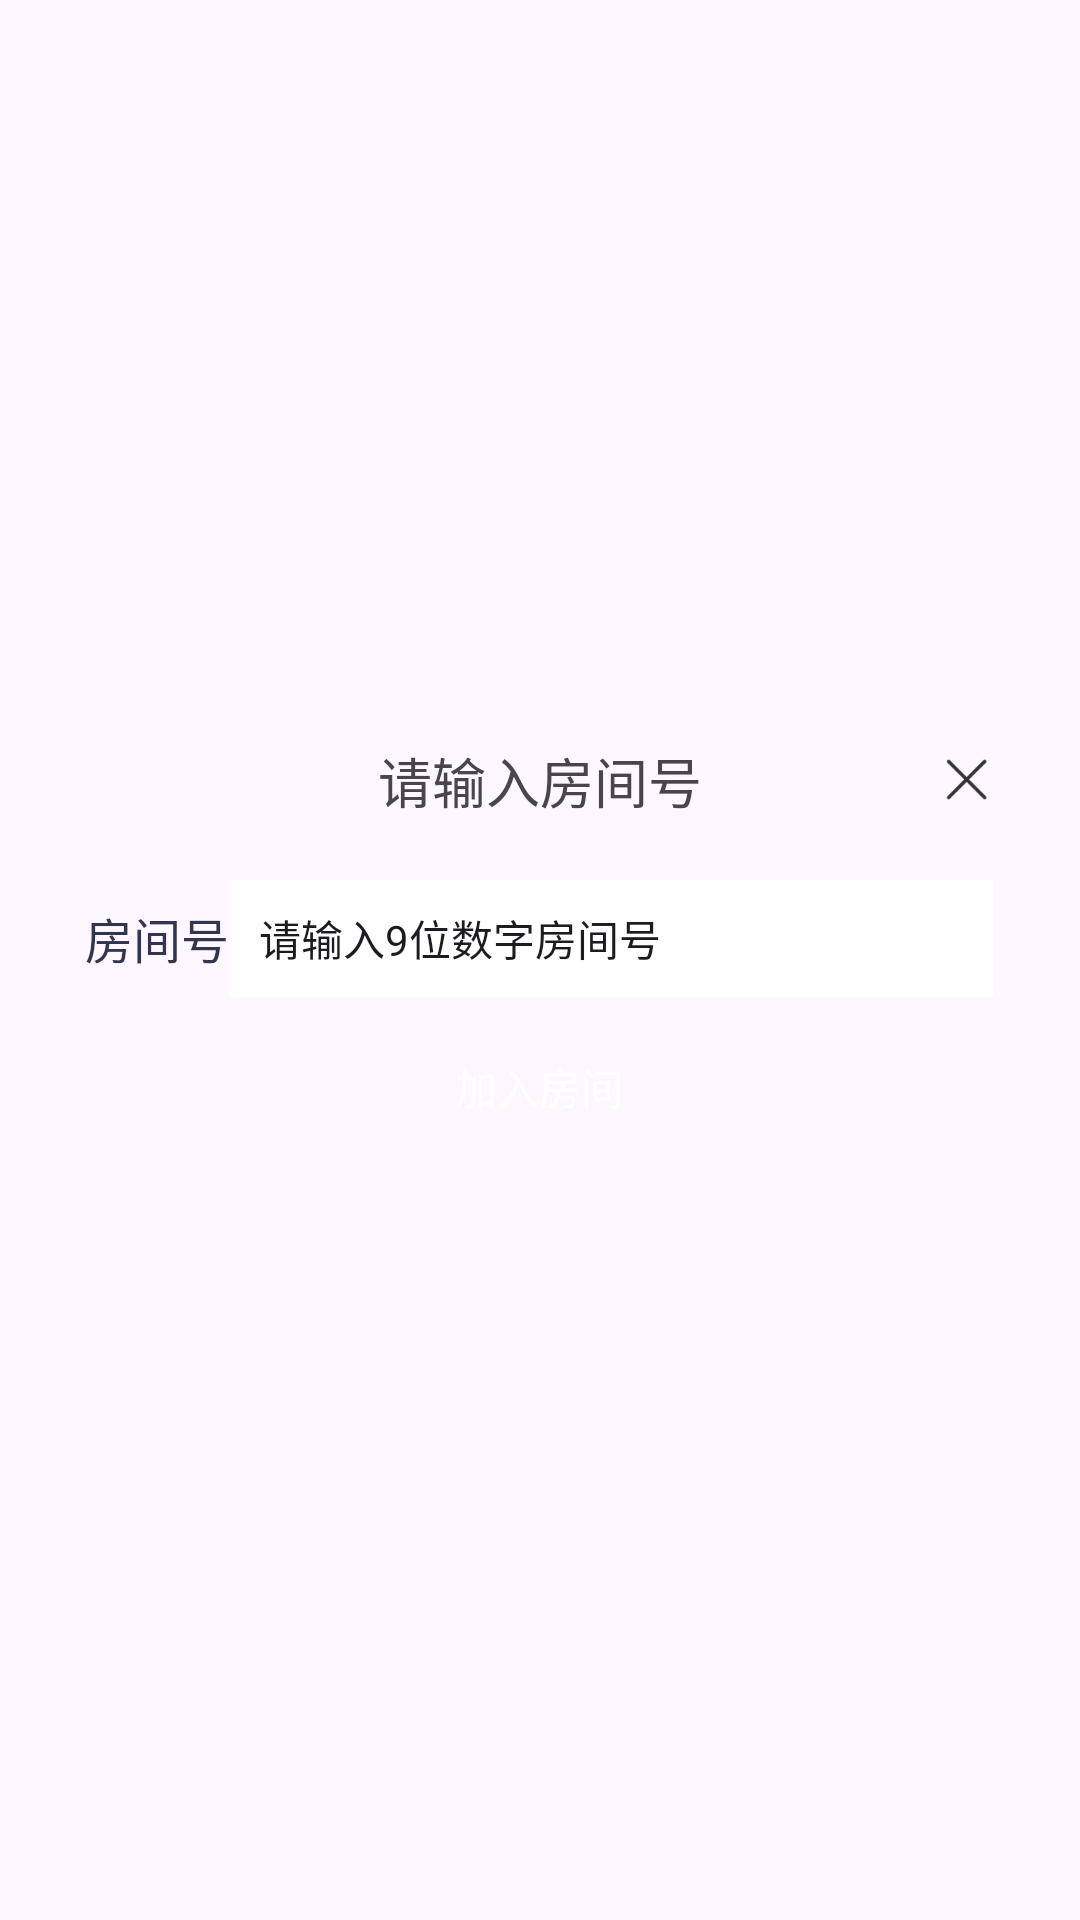

Icons on this 1080×1920 Android screen, each with its box as (x1, y1, x2, y2):
meeting close: (946, 759, 987, 800)
